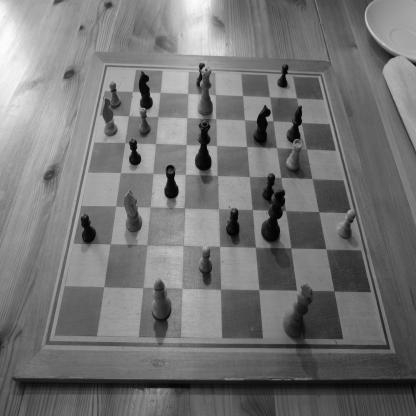black-bishop: (286, 104, 302, 144)
black-king: (261, 188, 286, 242)
black-knight: (253, 104, 271, 144), (138, 70, 153, 109)
black-pawn: (80, 213, 96, 243), (226, 207, 240, 236), (262, 173, 276, 201), (129, 138, 141, 166), (277, 63, 289, 88), (196, 62, 205, 88)
black-queen: (194, 120, 212, 171)
black-rook: (164, 164, 179, 199)
white-bishop: (151, 278, 172, 320)
white-king: (282, 282, 314, 339)
white-knight: (124, 189, 142, 233), (102, 96, 118, 136)
white-pawn: (336, 210, 356, 240), (198, 245, 212, 274), (138, 107, 151, 134), (109, 81, 121, 108)
white-queen: (197, 66, 213, 116)
white-rook: (286, 138, 303, 172)
